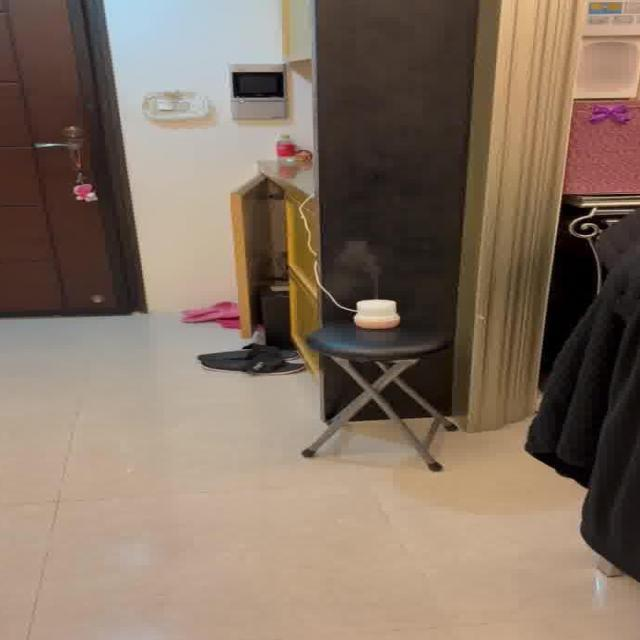fire: (331, 243, 388, 293)
